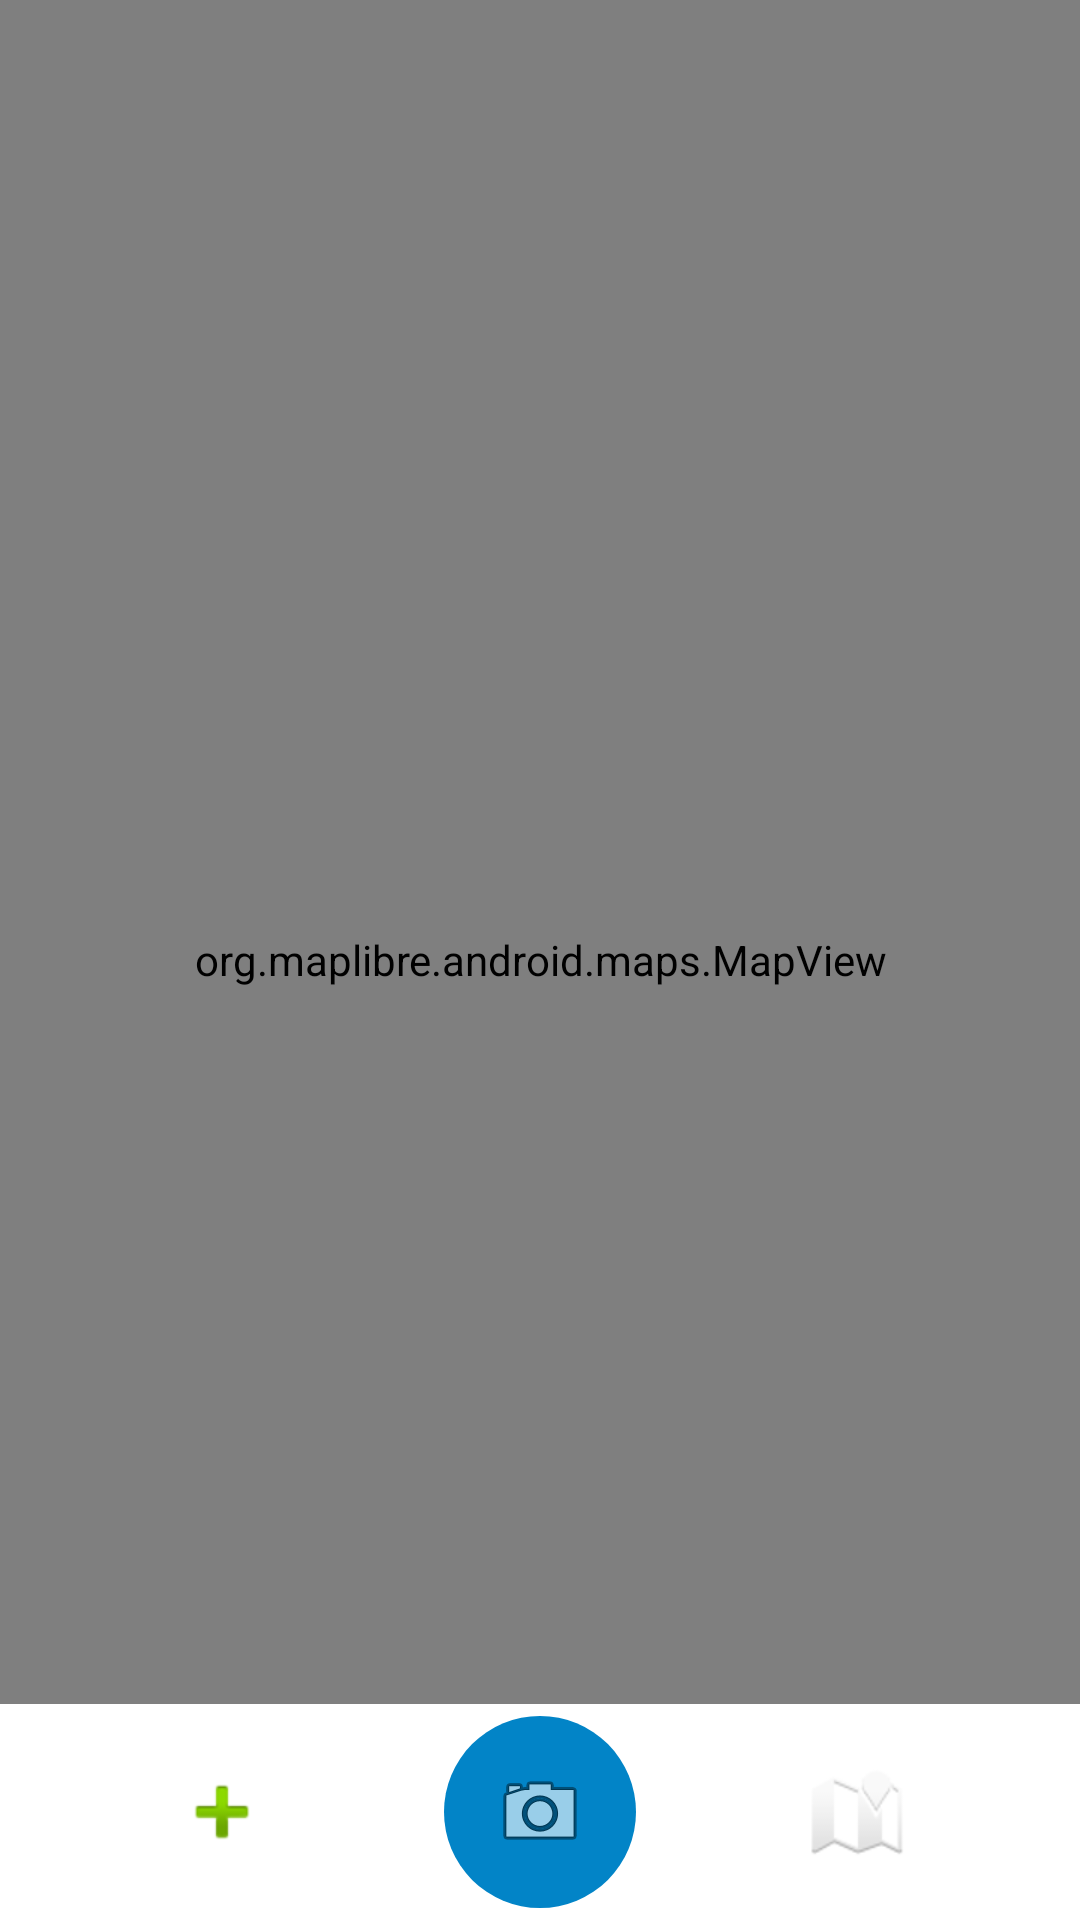

Screen size 1080 × 1920. Icon name, then its box in pixels as [x1, y1, x2, y2]:
add: [195, 1785, 249, 1839]
camera: [444, 1716, 636, 1908]
map: [812, 1781, 902, 1854]
